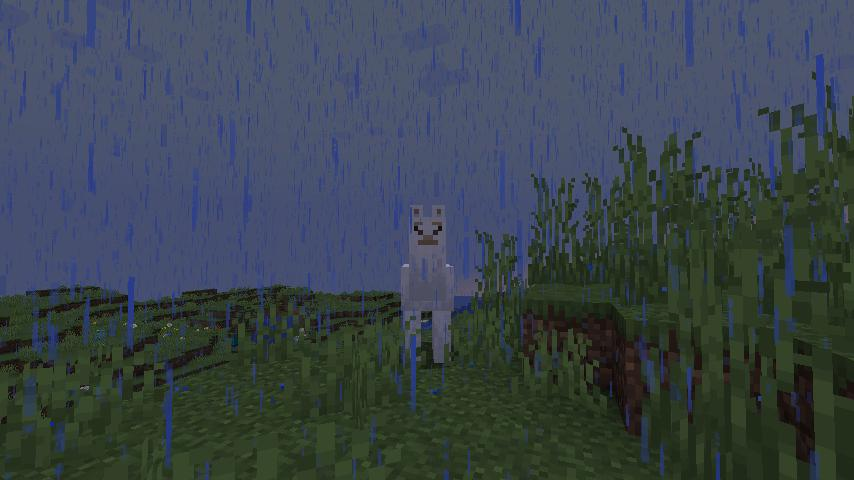llama: (403, 201, 459, 367)
